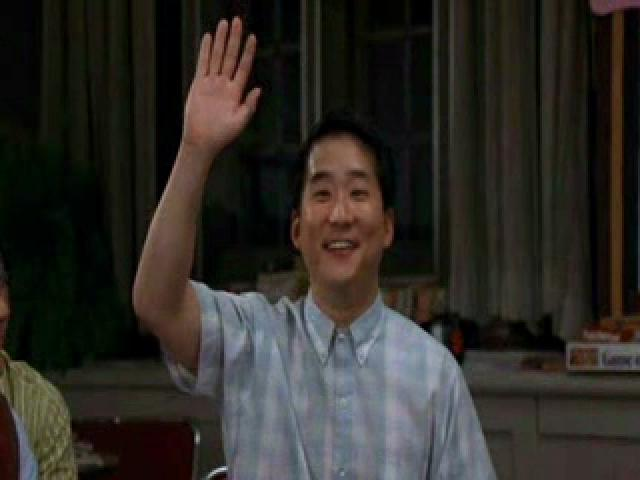T: (110, 10, 504, 480)
